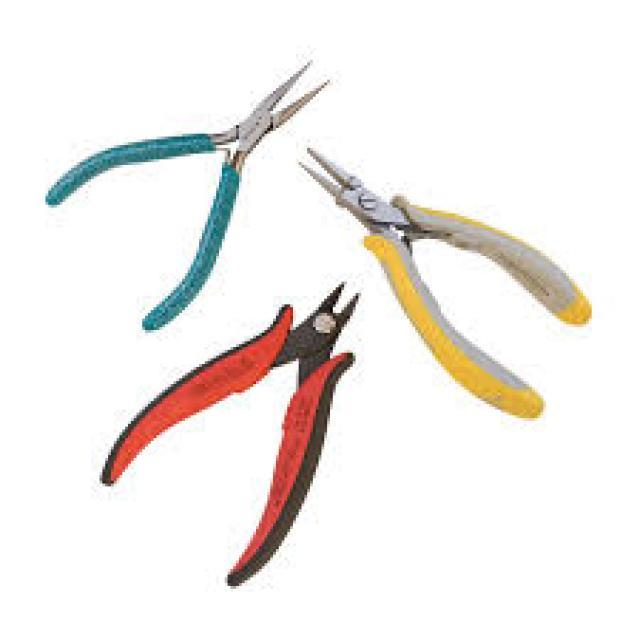pliers: (288, 137, 600, 441), (94, 272, 368, 608), (35, 54, 335, 337)
